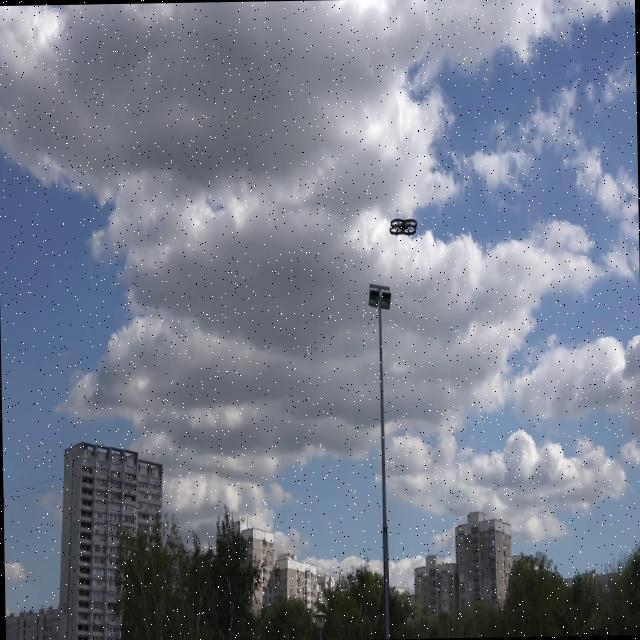Drons: (388, 215, 420, 238)
